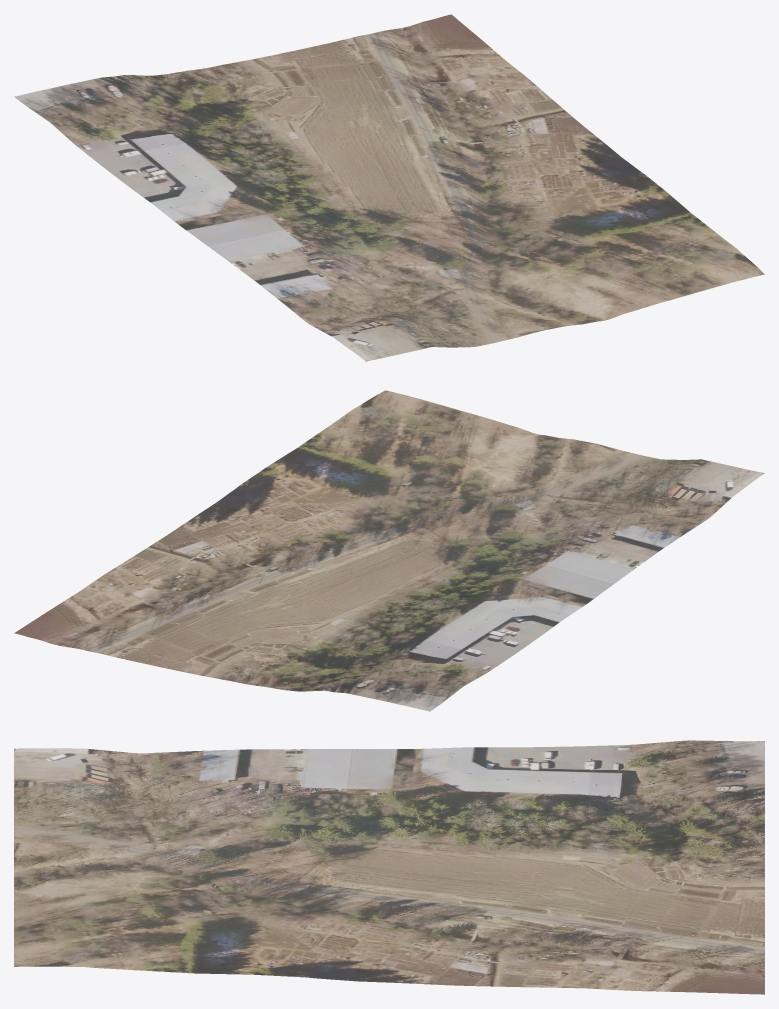
Rendered from CM_Terrain_24493940_6815698.fbx.
The picture shows the model from 3 angles, top to bottom: view 1: azimuth 30°, elevation 25°; view 2: azimuth 150°, elevation 25°; view 3: azimuth 270°, elevation 25°; orthographic projection. The views are drawn at different scales.
Parts seen in each view (by area): view 1: CM_Terrain_24493940_6815698_LOD0; view 2: CM_Terrain_24493940_6815698_LOD0; view 3: CM_Terrain_24493940_6815698_LOD0.
Part boxes in pixels (left/top/right/bottom): CM_Terrain_24493940_6815698_LOD0: left=14, top=14, right=764, bottom=361; CM_Terrain_24493940_6815698_LOD0: left=14, top=390, right=764, bottom=711; CM_Terrain_24493940_6815698_LOD0: left=14, top=740, right=764, bottom=994.
Size of what is drawn, in the model's own units: 147 by 8.67 by 205.
